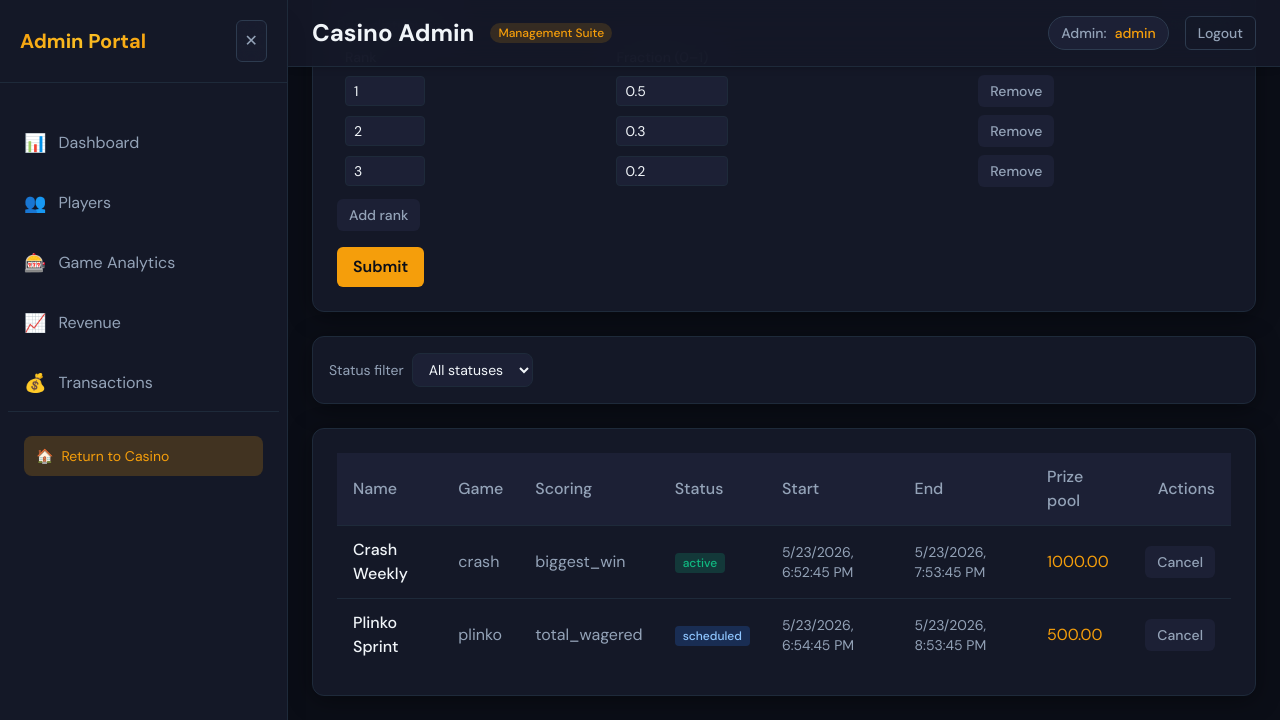
Test: TournamentsAdminPage › detail modal + actions › shows "No entries yet" inside the modal when leaderboard is empty
(page scrolled)
Click the row with test id "tournament-row-2": {"x": 784, "y": 635} left=337, top=598, right=1231, bottom=671
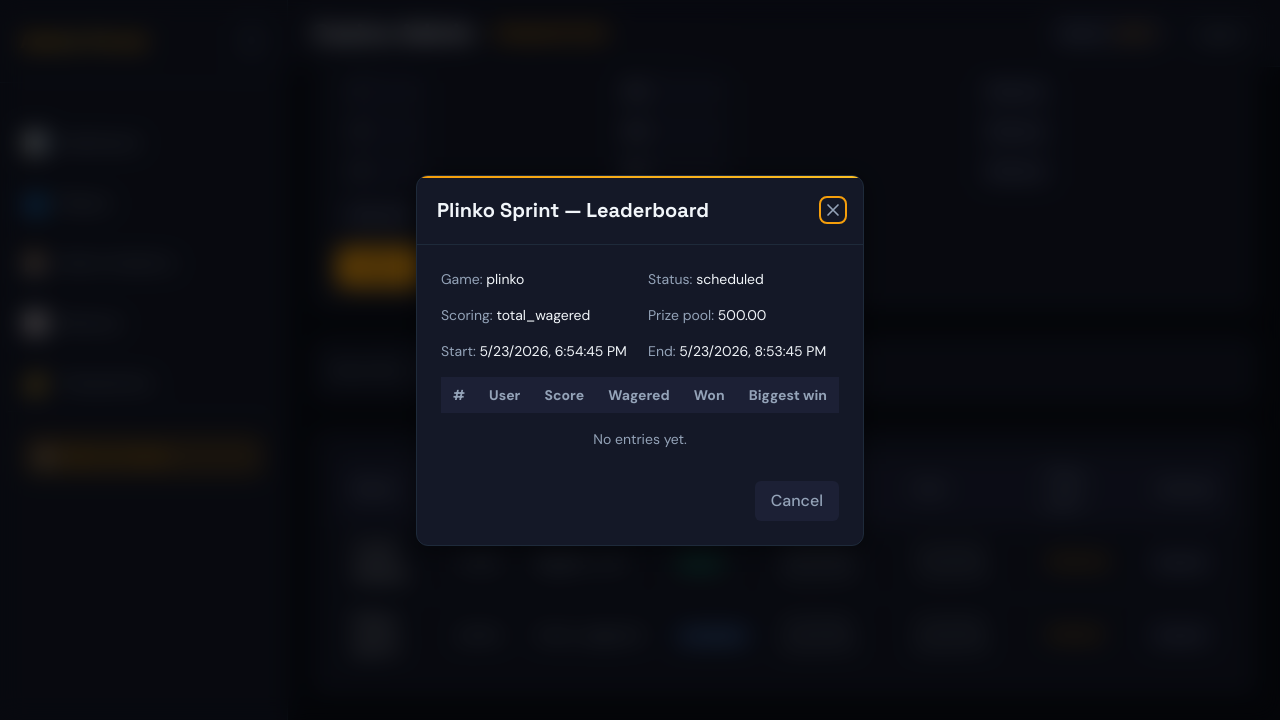
Expected: the text "No entries yet." is shown, left=441, top=412, right=839, bottom=464
